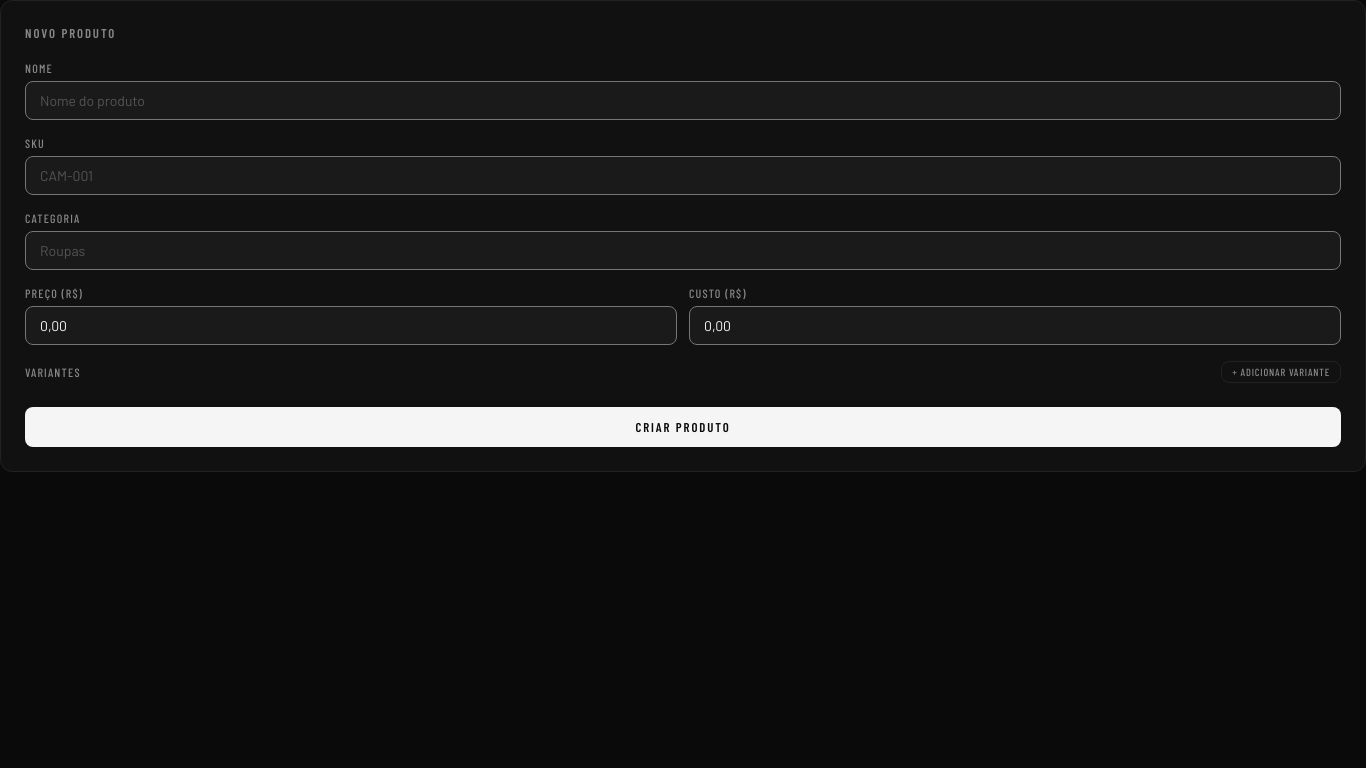
CreateProductForm variant rows (M008 polish) › shows variant counter in the label after adding rows
Check: the text "Variantes" is shown, box [25,365,81,379]
Click the button with test id "create-product-add-variant-button": [1281, 372] box [1221,361,1341,383]
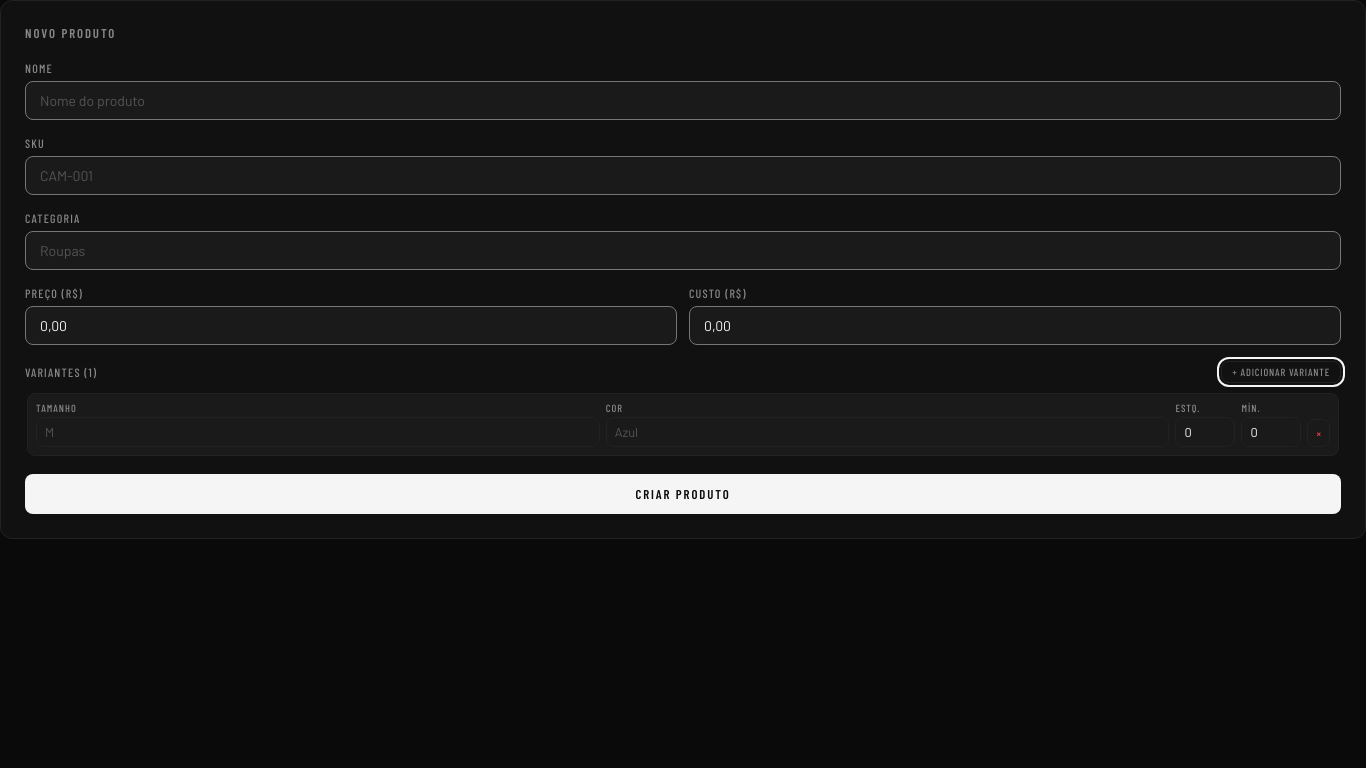
Check: the text "Variantes (1)" is shown, box [25,365,97,379]
Click the button with test id "create-product-add-variant-button": [1281, 372] box [1221,361,1341,383]
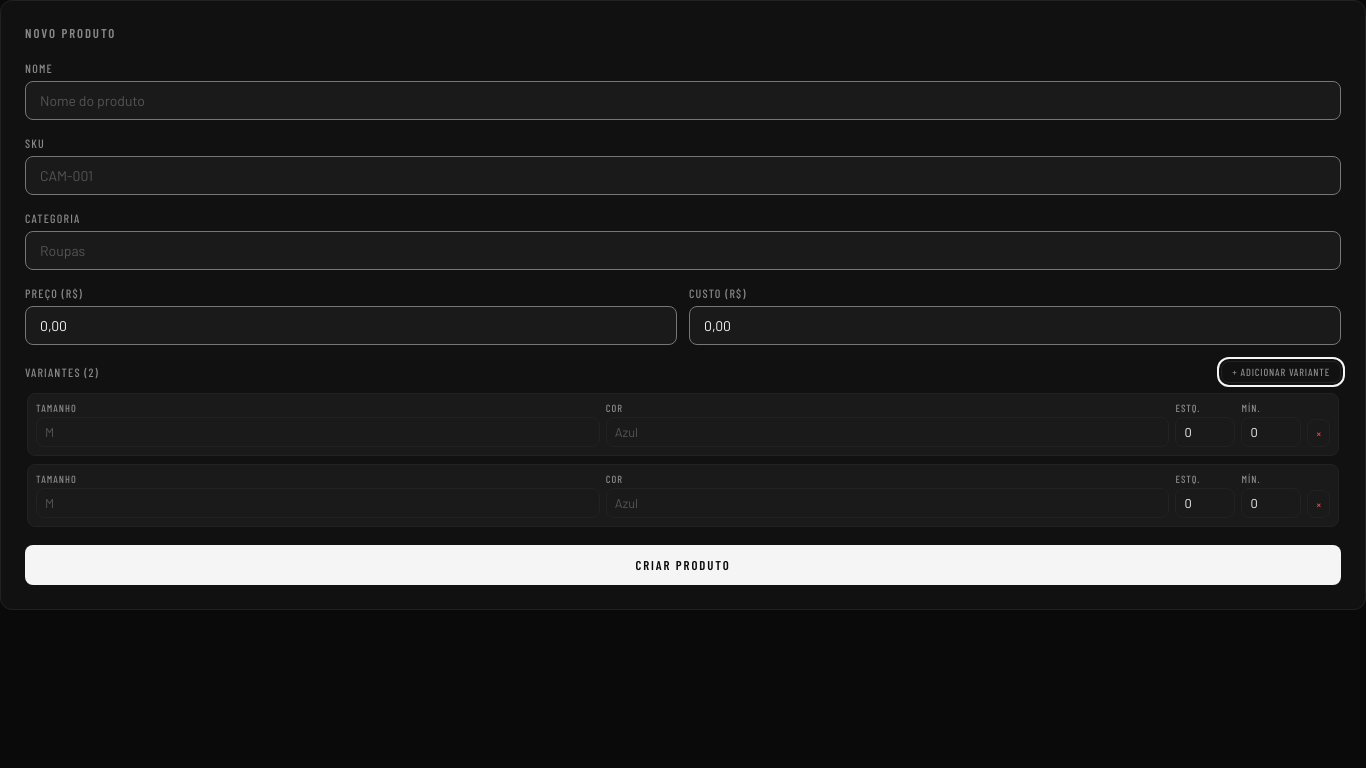
Check: the text "Variantes (2)" is shown, box [25,365,99,379]
